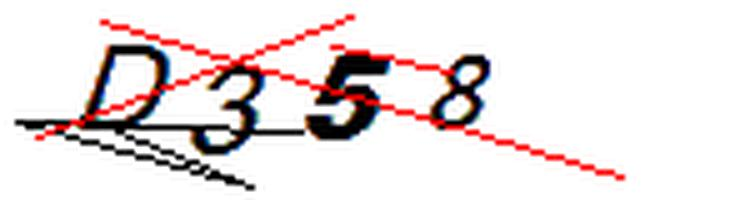3: (185, 62, 270, 162)
5: (293, 47, 401, 147)
8: (421, 48, 507, 142)
D: (72, 39, 177, 140)
